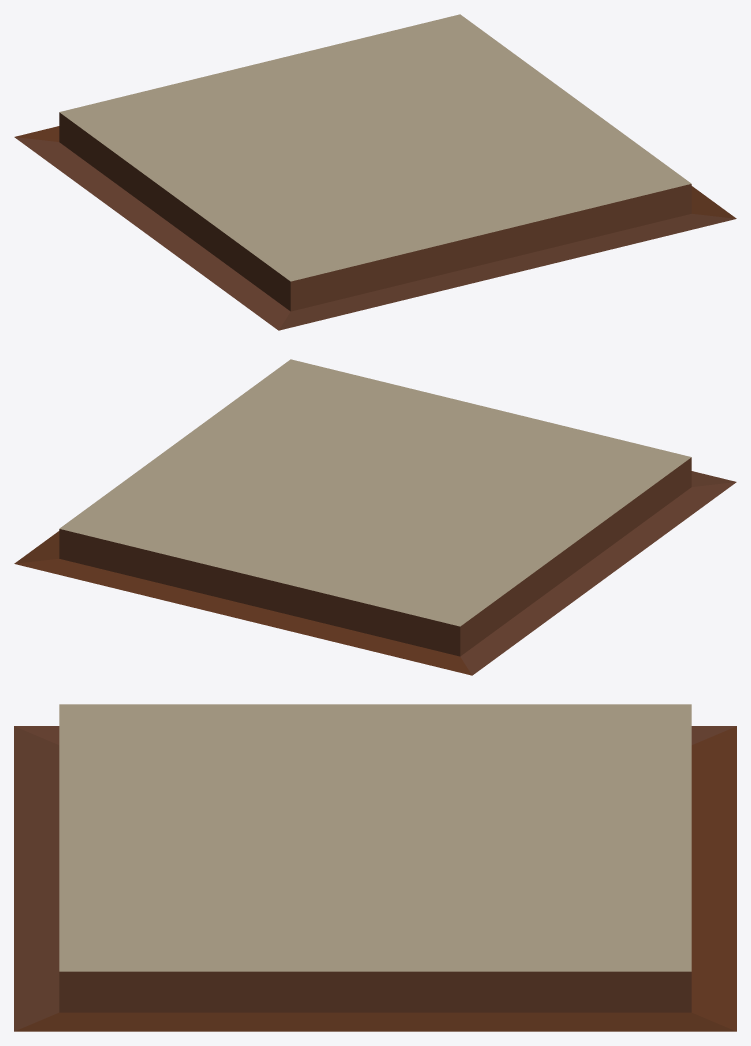
File: Ceiling_HomeA-BasicA.fbx
The picture shows the model from 3 angles, top to bottom: view 1: azimuth 30°, elevation 25°; view 2: azimuth 150°, elevation 25°; view 3: azimuth 270°, elevation 25°; orthographic projection. The views are drawn at different scales.
Parts seen in each view (by area): view 1: Ceiling_HomeA-BasicA; view 2: Ceiling_HomeA-BasicA; view 3: Ceiling_HomeA-BasicA.
Boxes of the visible parts, <box> form: Ceiling_HomeA-BasicA: <box>14,14,736,330</box>; Ceiling_HomeA-BasicA: <box>14,359,736,675</box>; Ceiling_HomeA-BasicA: <box>14,704,736,1031</box>.
Bounding box in the file's own units: 200 × 12.5 × 200.
